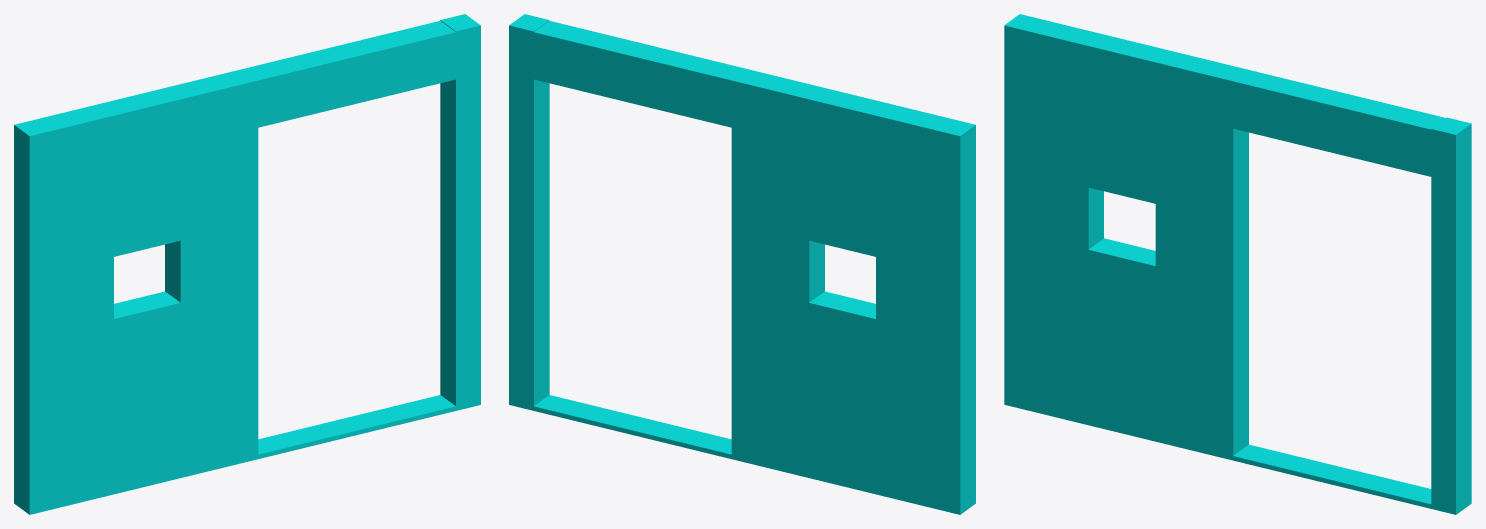
The model's file is SM_Bld_Sliding_Door_03_Collision.fbx.
3 renders of one model, left to right at view 1: azimuth 30°, elevation 25°; view 2: azimuth 150°, elevation 25°; view 3: azimuth 330°, elevation 25°, orthographic.
Visible parts, largest first — view 1: SM_Bld_Sliding_Door_03_Collision; view 2: SM_Bld_Sliding_Door_03_Collision; view 3: SM_Bld_Sliding_Door_03_Collision.
Part boxes in pixels (x1,y1,x2,y2): SM_Bld_Sliding_Door_03_Collision: (14,14,480,514); SM_Bld_Sliding_Door_03_Collision: (509,14,975,514); SM_Bld_Sliding_Door_03_Collision: (1004,14,1471,514).
Size of the model in its own units: 375 by 301 by 22.5.
